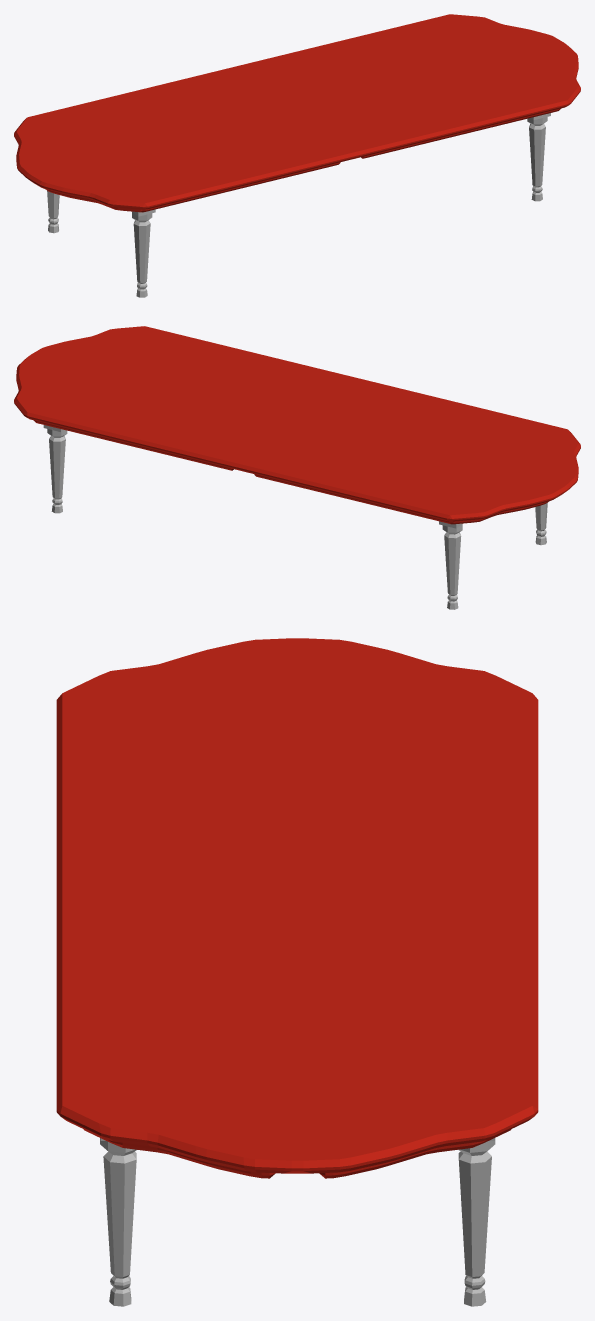
File: Table.fbx
3 renders of one model, top to bottom at view 1: azimuth 30°, elevation 25°; view 2: azimuth 150°, elevation 25°; view 3: azimuth 270°, elevation 25°, orthographic. The views are drawn at different scales.
Visible parts, largest first — view 1: Table; view 2: Table; view 3: Table.
Part boxes in pixels (bbox=[...]): Table: bbox=[14, 14, 580, 297]; Table: bbox=[14, 326, 580, 609]; Table: bbox=[56, 638, 538, 1306].
Bounding box in the file's own units: 6.43 × 1.2 × 2.48.
